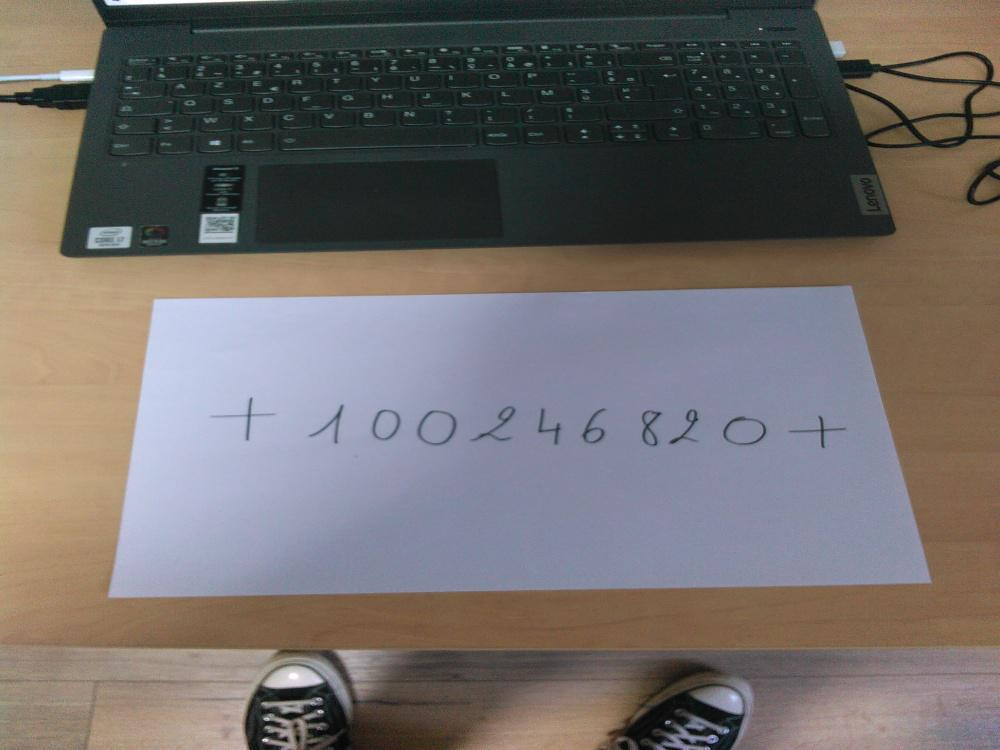+: (211, 393, 279, 440), (792, 411, 848, 449)
0: (722, 414, 768, 448), (417, 409, 458, 446), (372, 408, 403, 443)
1: (310, 403, 350, 446)
2: (473, 404, 517, 444), (670, 408, 703, 446)
4: (535, 404, 564, 447)
6: (582, 403, 612, 446)
8: (640, 408, 662, 448)
